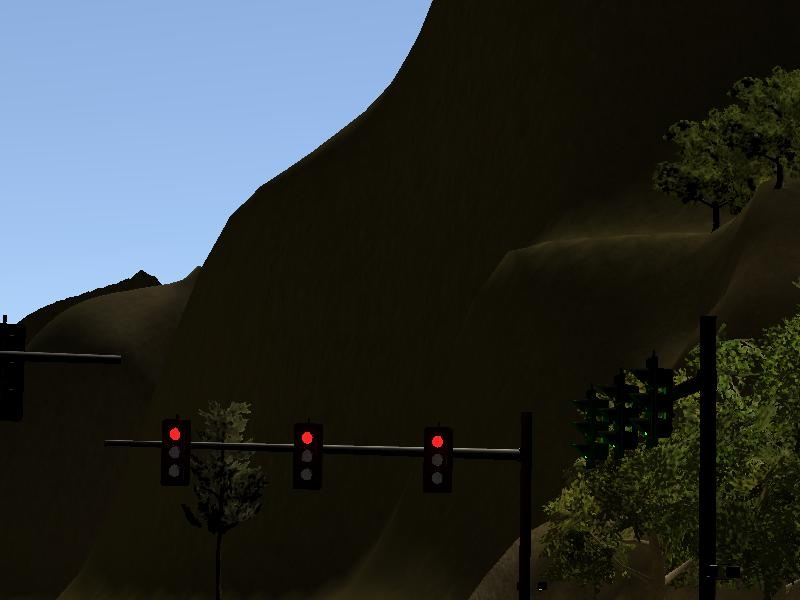RED: (424, 426, 452, 492), (296, 420, 324, 486), (162, 417, 190, 483)
